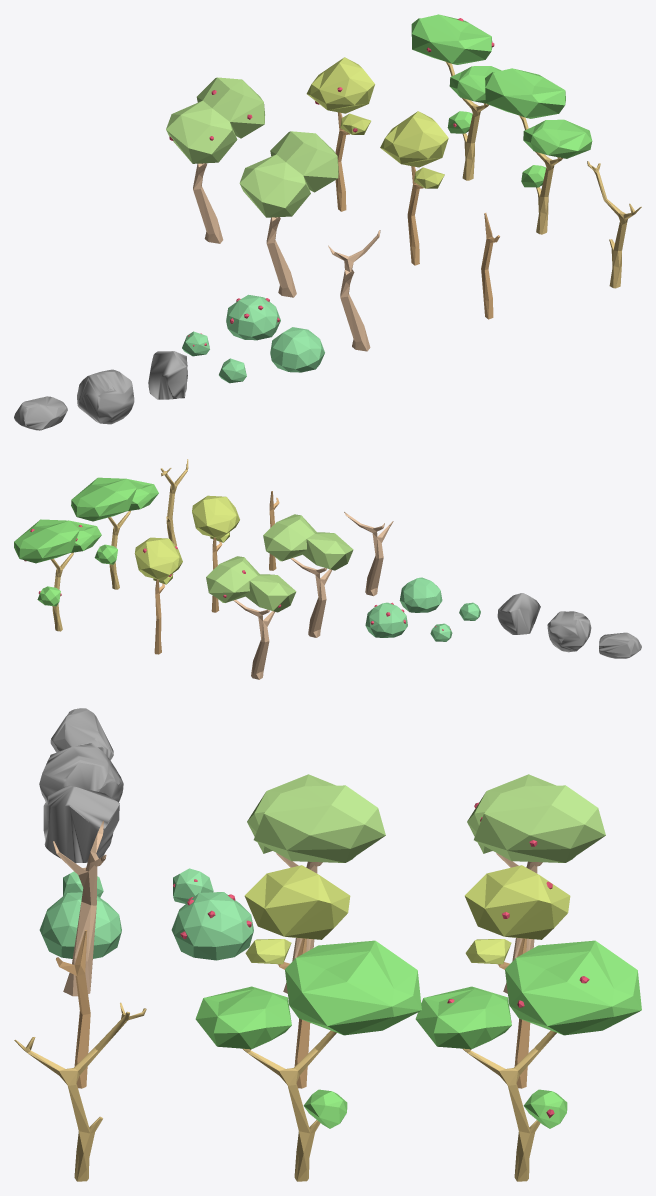
Rendered from NatureEnvironmentModels.fbx.
3 views of the same model, one above another, from view 1: azimuth 30°, elevation 25°; view 2: azimuth 150°, elevation 25°; view 3: azimuth 270°, elevation 25° (orthographic). The views are drawn at different scales.
Visible parts, largest first — view 1: NEM_Tree_A_2, NEM_Tree_A_1, NEM_Tree_C_2, NEM_Tree_C_1, NEM_Tree_B_2, NEM_Tree_B_1, NEM_Rock_2, NEM_Bush_4, NEM_Bush_2, NEM_Rock_3, NEM_Tree_A_3, NEM_Rock_1 (+2 smaller); view 2: NEM_Tree_A_1, NEM_Tree_A_2, NEM_Tree_C_1, NEM_Tree_C_2, NEM_Tree_B_1, NEM_Tree_B_2, NEM_Rock_2, NEM_Rock_3, NEM_Bush_4, NEM_Bush_2, NEM_Tree_A_3, NEM_Rock_1 (+2 smaller); view 3: NEM_Tree_C_2, NEM_Tree_C_1, NEM_Tree_A_1, NEM_Tree_A_2, NEM_Tree_B_2, NEM_Tree_B_1, NEM_Rock_3, NEM_Bush_4, NEM_Bush_2, NEM_Rock_2, NEM_Tree_C_3, NEM_Tree_A_3 (+3 smaller).
Boxes of the visible parts, x1=… form: NEM_Tree_A_2: x1=239, y1=131, x2=338, y2=297; NEM_Tree_A_1: x1=166, y1=77, x2=264, y2=243; NEM_Tree_C_2: x1=485, y1=68, x2=592, y2=234; NEM_Tree_C_1: x1=411, y1=14, x2=501, y2=180; NEM_Tree_B_2: x1=380, y1=111, x2=448, y2=265; NEM_Tree_B_1: x1=306, y1=57, x2=374, y2=211; NEM_Rock_2: x1=77, y1=369, x2=134, y2=424; NEM_Bush_4: x1=226, y1=294, x2=280, y2=340; NEM_Bush_2: x1=270, y1=327, x2=324, y2=372; NEM_Rock_3: x1=148, y1=351, x2=187, y2=399; NEM_Tree_A_3: x1=328, y1=230, x2=380, y2=351; NEM_Rock_1: x1=14, y1=396, x2=67, y2=430; NEM_Tree_A_1: x1=206, y1=556, x2=296, y2=679; NEM_Tree_A_2: x1=263, y1=514, x2=353, y2=637; NEM_Tree_C_1: x1=14, y1=519, x2=101, y2=631; NEM_Tree_C_2: x1=71, y1=477, x2=158, y2=589; NEM_Tree_B_1: x1=134, y1=537, x2=182, y2=654; NEM_Tree_B_2: x1=192, y1=495, x2=239, y2=612; NEM_Rock_2: x1=547, y1=611, x2=591, y2=652; NEM_Rock_3: x1=497, y1=593, x2=540, y2=634; NEM_Bush_4: x1=365, y1=602, x2=407, y2=637; NEM_Bush_2: x1=399, y1=577, x2=442, y2=612; NEM_Tree_A_3: x1=344, y1=512, x2=393, y2=596; NEM_Rock_1: x1=599, y1=632, x2=641, y2=658; NEM_Tree_C_2: x1=195, y1=940, x2=421, y2=1181; NEM_Tree_C_1: x1=415, y1=940, x2=641, y2=1181; NEM_Tree_A_1: x1=467, y1=774, x2=605, y2=993; NEM_Tree_A_2: x1=247, y1=774, x2=385, y2=993; NEM_Tree_B_2: x1=244, y1=865, x2=350, y2=1088; NEM_Tree_B_1: x1=464, y1=865, x2=570, y2=1088; NEM_Rock_3: x1=43, y1=785, x2=119, y2=863; NEM_Bush_4: x1=171, y1=892, x2=253, y2=960; NEM_Bush_2: x1=39, y1=892, x2=121, y2=958; NEM_Rock_2: x1=39, y1=743, x2=123, y2=801; NEM_Tree_C_3: x1=14, y1=1002, x2=146, y2=1181; NEM_Tree_A_3: x1=53, y1=820, x2=106, y2=996.
Bounding box in the file's own units: 1075 × 259 × 620.
